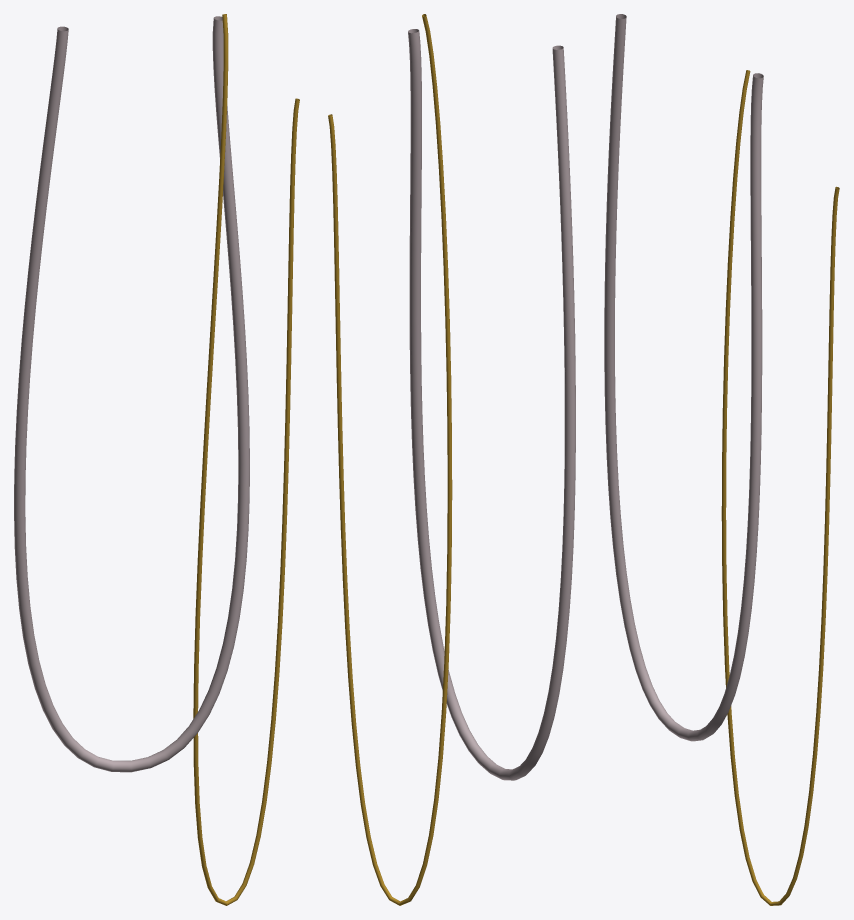
File: wiredecoration.fbx
3 views of the same model, side by side, from view 1: azimuth 30°, elevation 25°; view 2: azimuth 150°, elevation 25°; view 3: azimuth 330°, elevation 25° (orthographic). The views are drawn at different scales.
Parts seen in each view (by area): view 1: deco wire; view 2: deco wire; view 3: deco wire.
Part boxes in pixels (x1,y1,x2,y2): deco wire: [14, 14, 299, 905]; deco wire: [328, 14, 575, 905]; deco wire: [604, 14, 839, 905].
Size of the model in its own units: 264 by 864 by 74.29.
